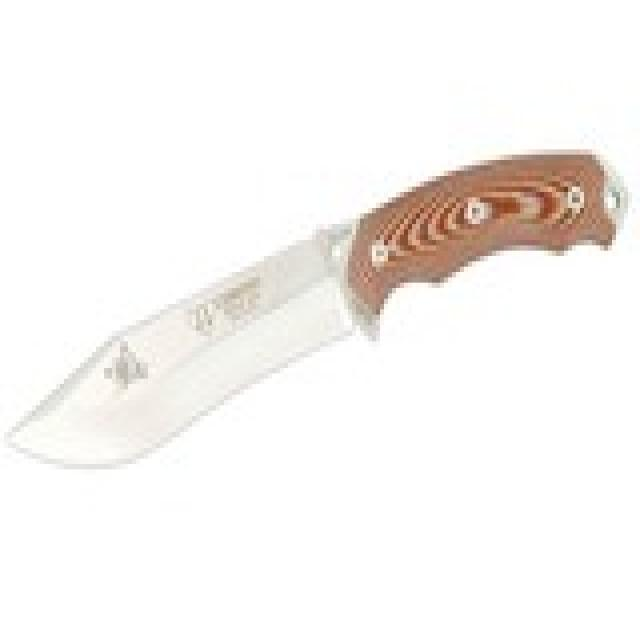Knife: (9, 135, 634, 487)
